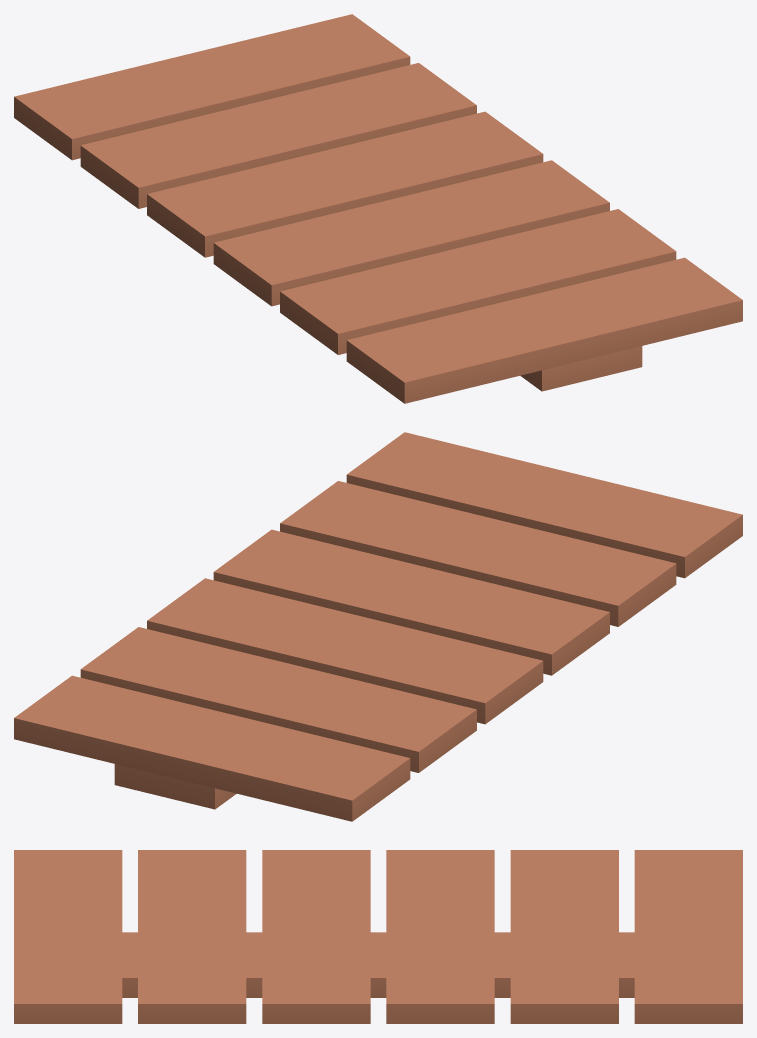
The model's file is planks-half.glb.
The picture shows the model from 3 angles, top to bottom: view 1: azimuth 30°, elevation 25°; view 2: azimuth 150°, elevation 25°; view 3: azimuth 270°, elevation 25°; orthographic projection. The views are drawn at different scales.
Parts seen in each view (by area): view 1: planks-half; view 2: planks-half; view 3: planks-half.
Boxes of the visible parts, x1=… form: planks-half: x1=14, y1=14, x2=742, y2=403; planks-half: x1=14, y1=432, x2=742, y2=821; planks-half: x1=14, y1=850, x2=742, y2=1023.
Size of the model in its own units: 0.5001 by 0.0599 by 1.
1 material, 1 textured.
